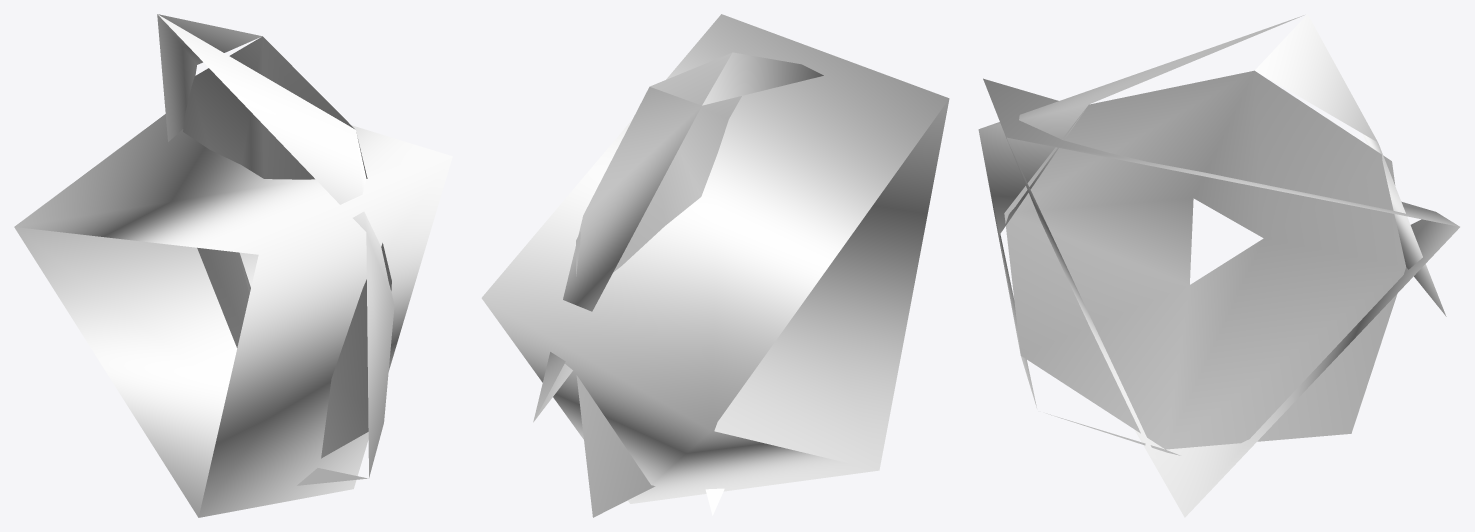
The picture shows the model from 3 angles, left to right: view 1: azimuth 30°, elevation 25°; view 2: azimuth 150°, elevation 25°; view 3: azimuth 270°, elevation 25°; orthographic projection. The views are drawn at different scales.
Bounding box in the file's own units: 0.1775 × 0.3641 × 0.36.
1 material, 1 textured.
